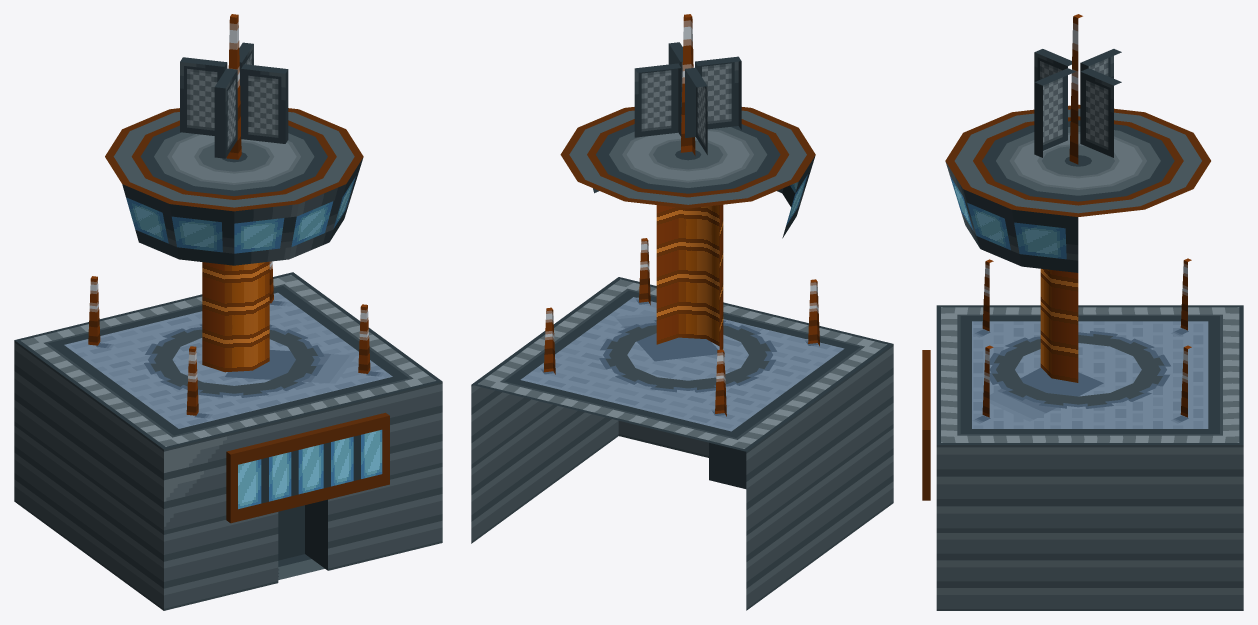
File: radio-city-station.glb
3 renders of one model, left to right at view 1: azimuth 30°, elevation 25°; view 2: azimuth 150°, elevation 25°; view 3: azimuth 270°, elevation 25°, orthographic. The views are drawn at different scales.
Parts seen in each view (by area): view 1: Goldenrod Radio Tower; view 2: Goldenrod Radio Tower; view 3: Goldenrod Radio Tower.
Part boxes in pixels (<box>): Goldenrod Radio Tower: <box>14,14,442,610</box>; Goldenrod Radio Tower: <box>471,14,893,610</box>; Goldenrod Radio Tower: <box>922,14,1243,610</box>.
Bounding box in the file's own units: 112 × 196 × 109.
3 materials, 3 textured.
